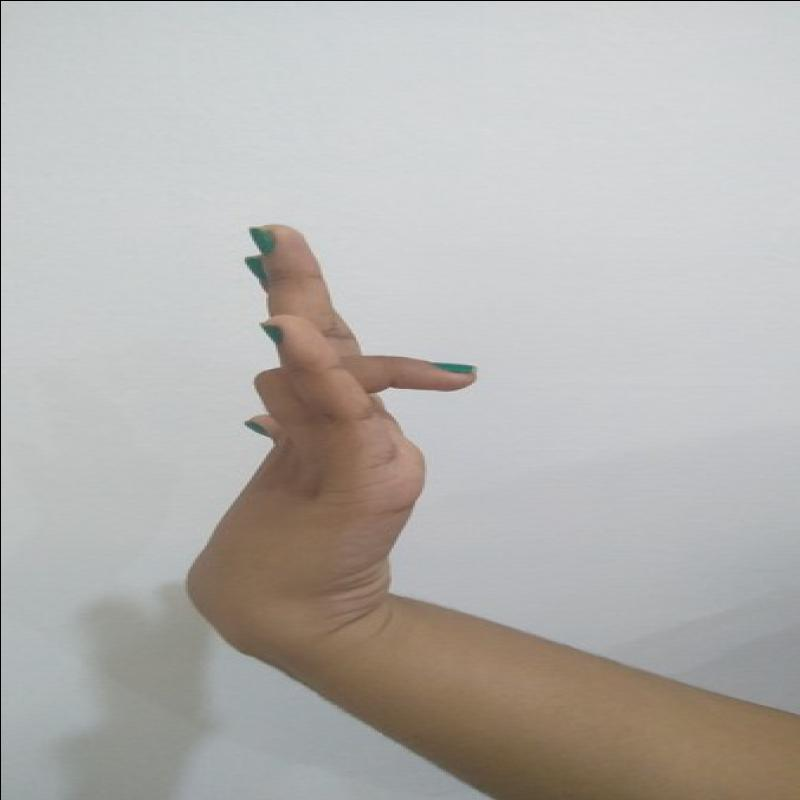Pathaaka: (175, 219, 492, 643)
